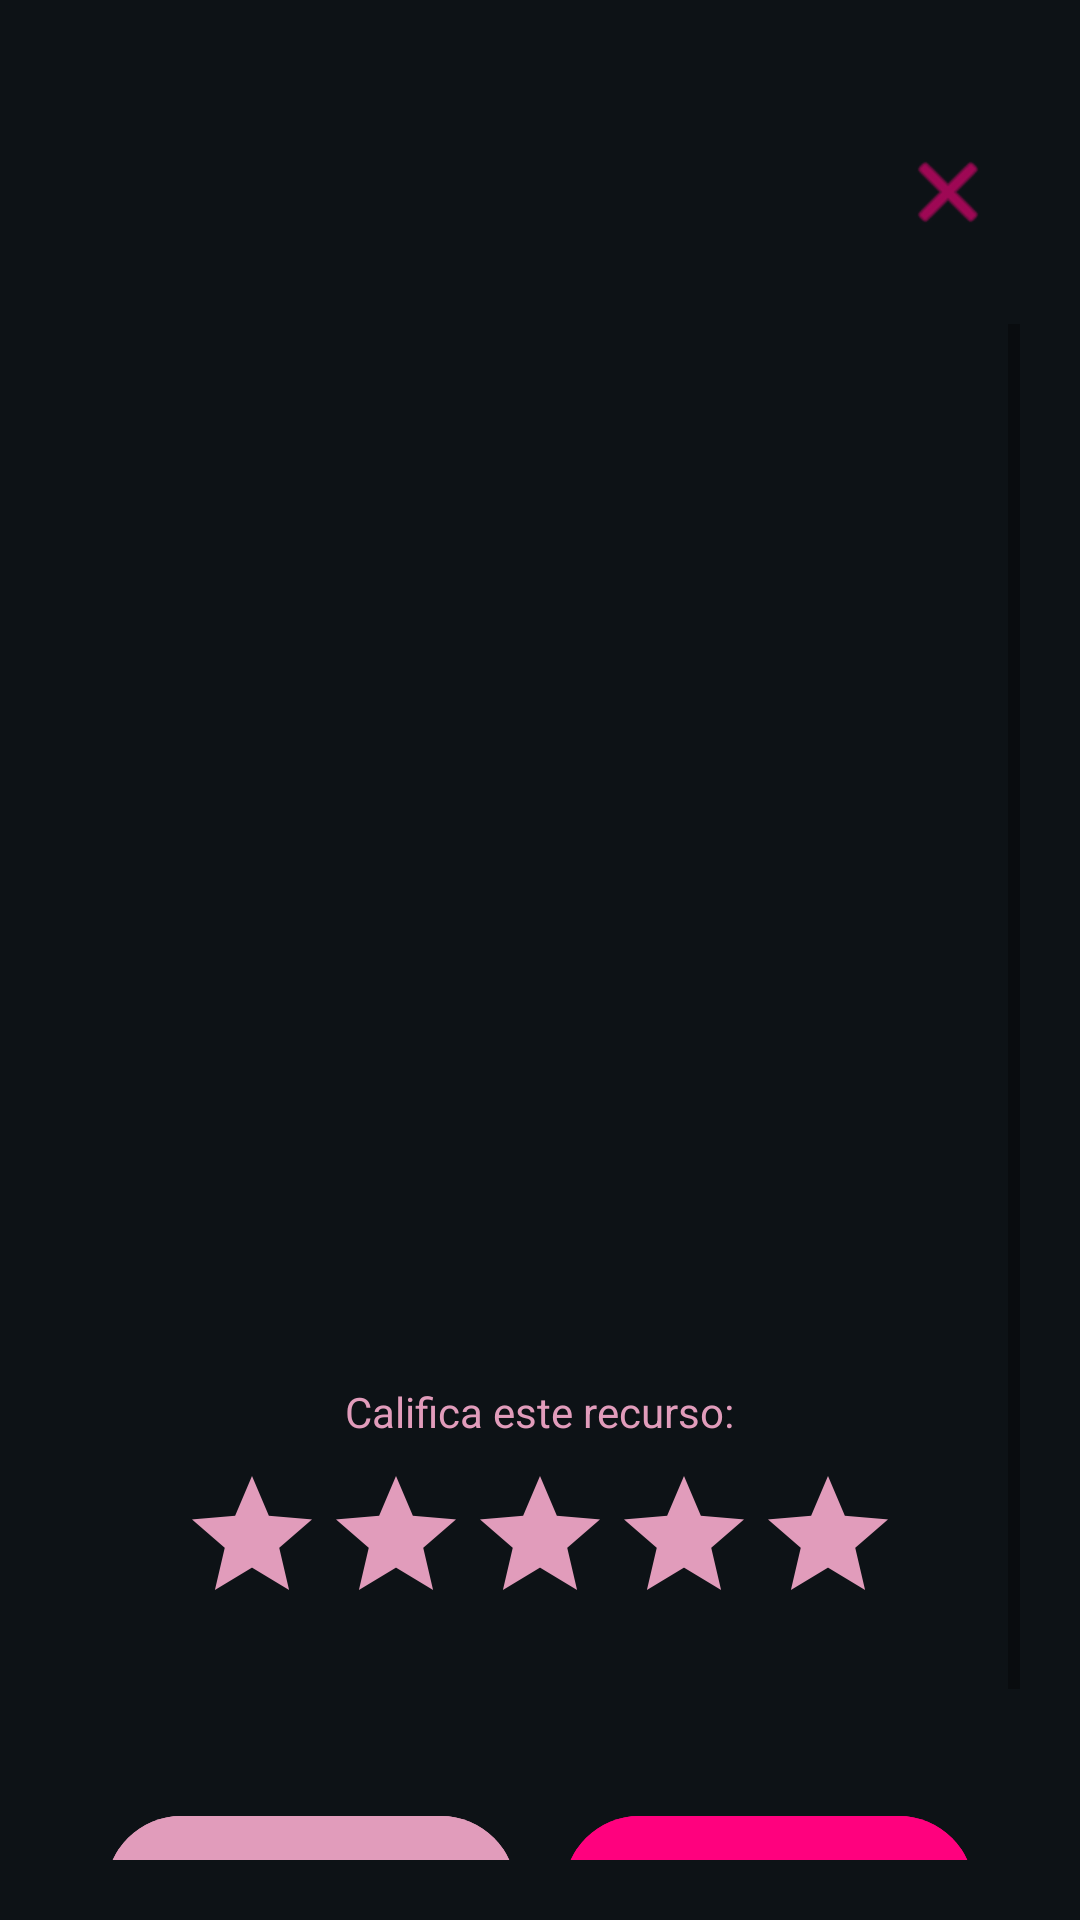

Locate icon controls on the screen. Image size 1080 x 1920, boxes as (x1, y1, x2, y2).
Cerrar pantalla: (918, 162, 978, 222)
